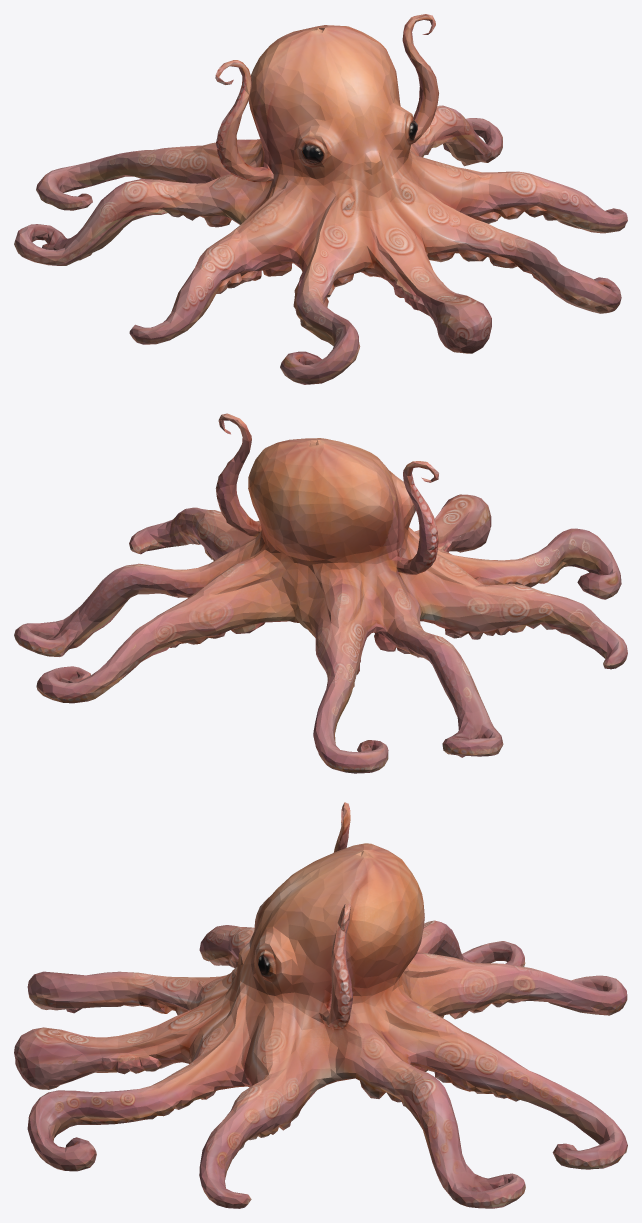
File: Octopus_Whimsy_radish_0429041236_texture.fbx
3 renders of one model, top to bottom at view 1: azimuth 30°, elevation 25°; view 2: azimuth 150°, elevation 25°; view 3: azimuth 270°, elevation 25°, orthographic. The views are drawn at different scales.
Visible parts, largest first — view 1: temp; view 2: temp; view 3: temp.
Boxes of the visible parts, <box> form: temp: <box>14,14,627,384</box>; temp: <box>14,413,627,773</box>; temp: <box>14,802,627,1208</box>.
Size of the model in its own units: 200 by 86.09 by 199.
Materials: 1 (1 with a texture image).
